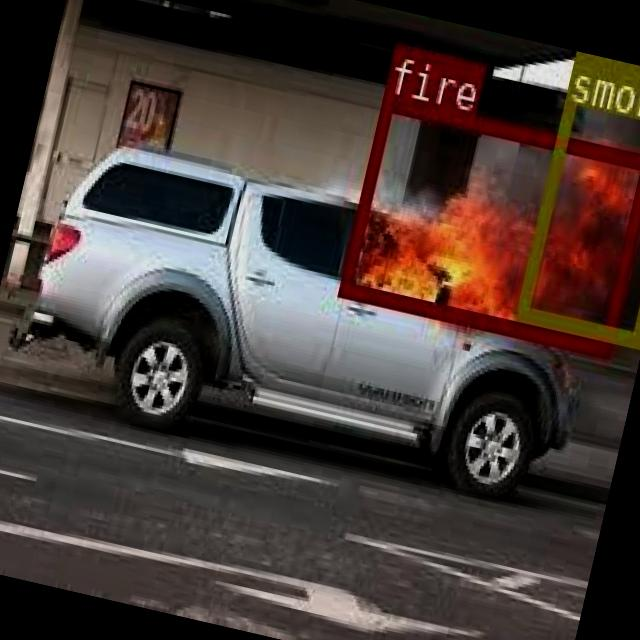fire: (335, 92, 640, 352)
smoke: (513, 50, 640, 343)
